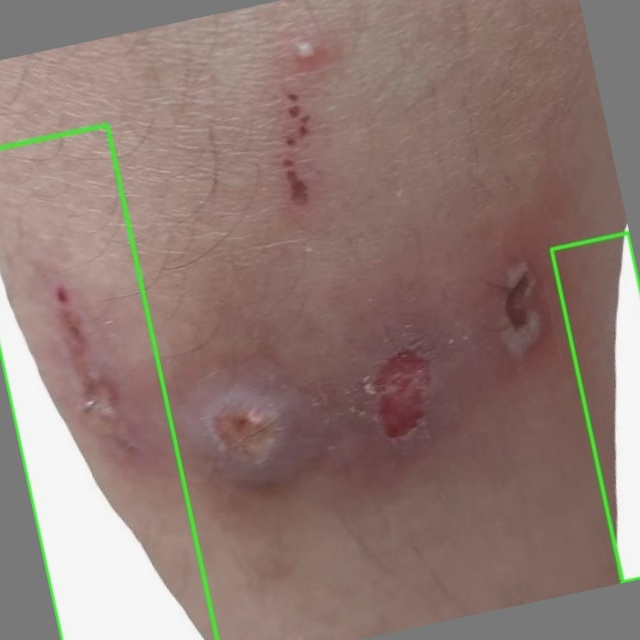Contact Dermatitis: (0, 125, 217, 639), (551, 232, 639, 582)
